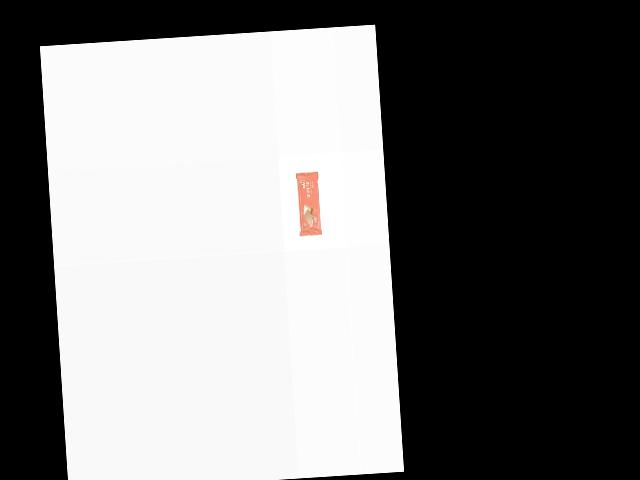chocolate: (295, 169, 322, 235)
